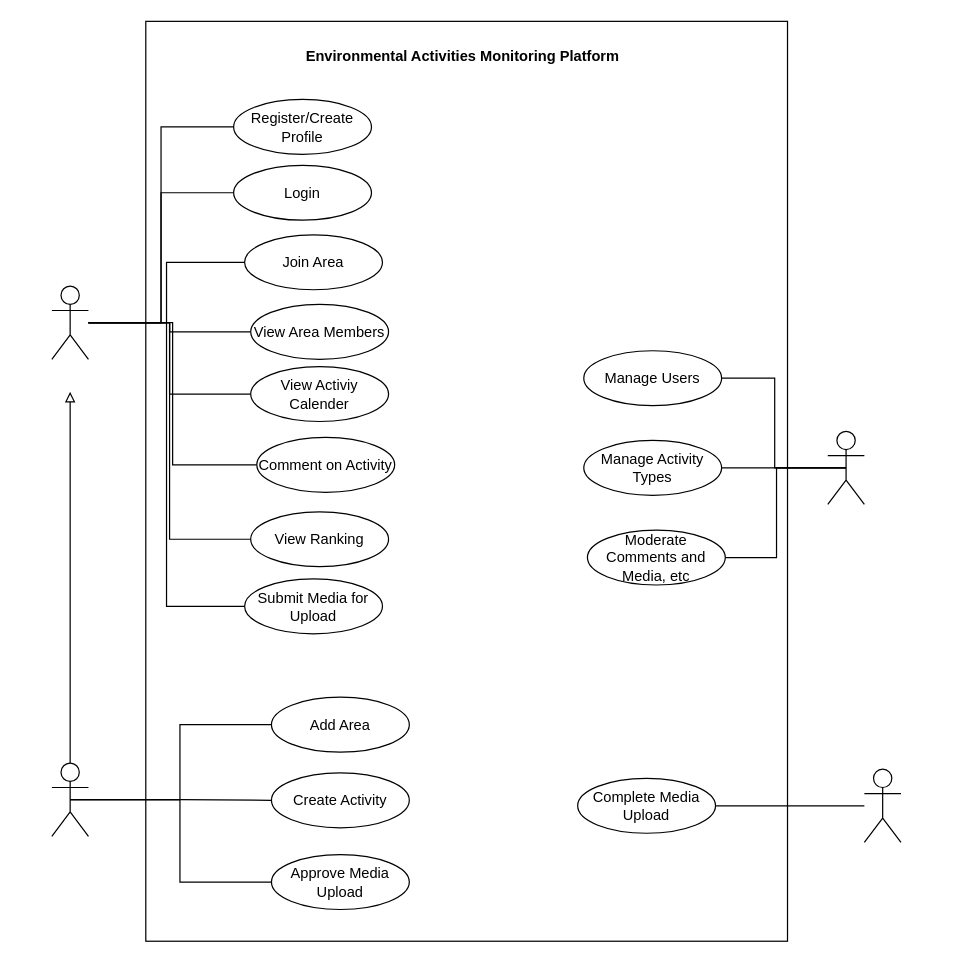
Some shapes in this 975 by 963 pixel diagram are drawn without their labels. The shapes that lost their labels are listed below. From the top down, each one's centre as x and y in pixels, then its label:
At (69,322): "Area Member".
At (845,467): "Sysrem Admins".
At (69,799): "Area Organizer".
At (882,805): "Media Upload Service".
